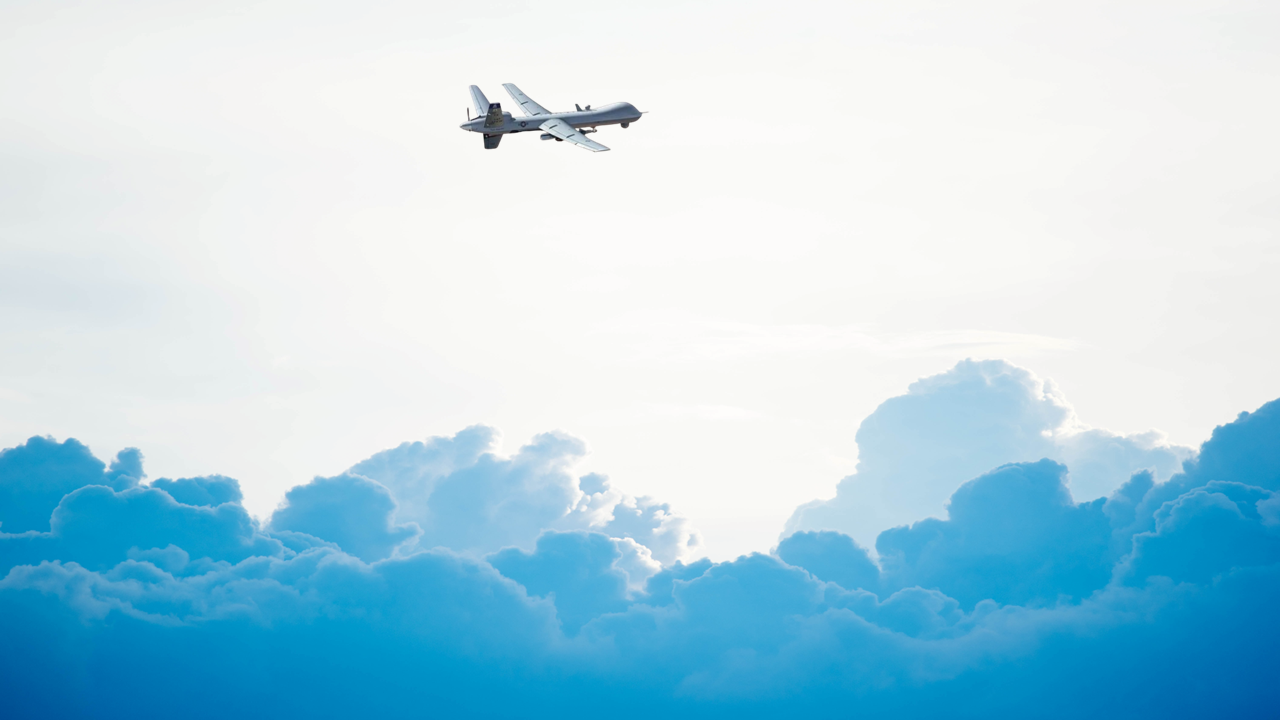military drone: (459, 82, 642, 152)
